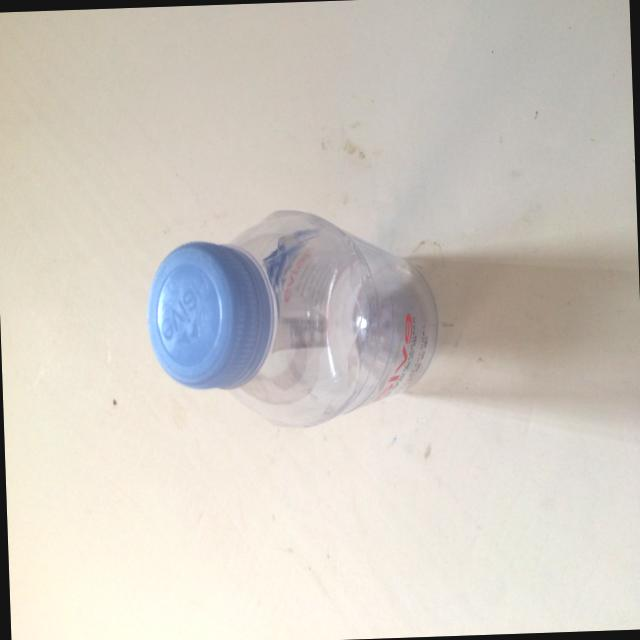Plastic: (140, 139, 464, 478)
